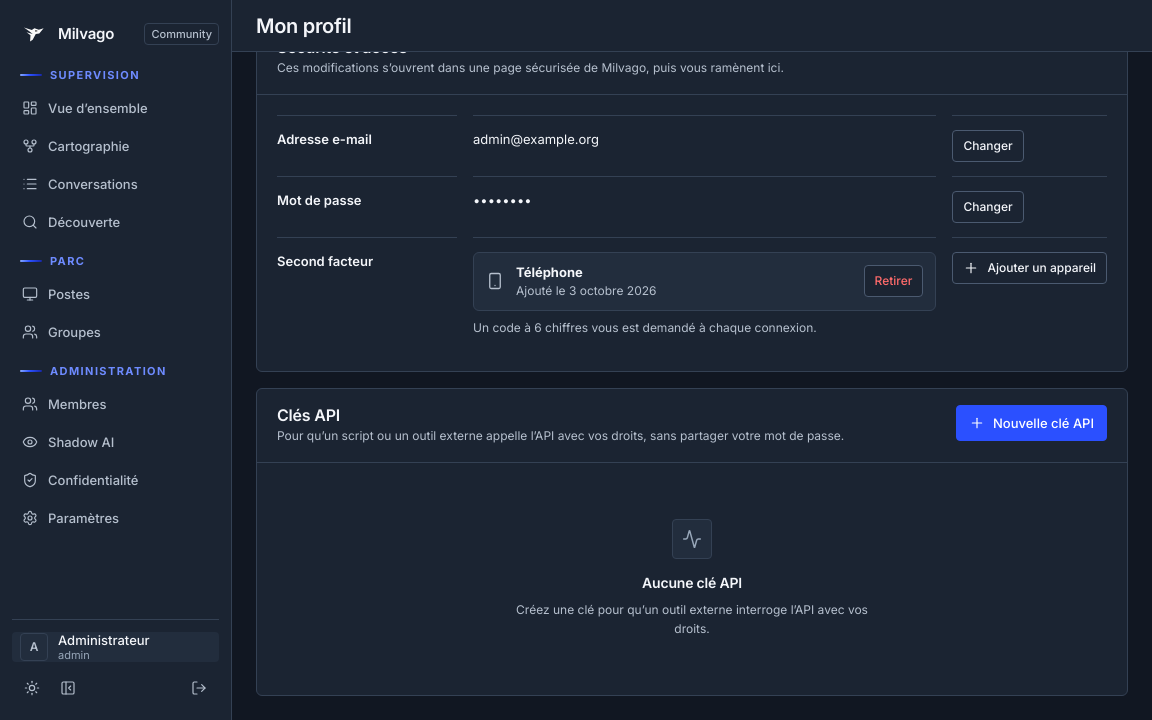
Test: Identity: API keys on the profile page › shows an empty state and offers only the caller own permissions
(page scrolled)
Expected: the heading "Aucune clé API" is shown, [642, 573, 742, 593]
What coordinates should you click on to do the following:
click the button "Nouvelle clé API"
I would click on:
 (1032, 423)
Its box is [956, 405, 1107, 441].
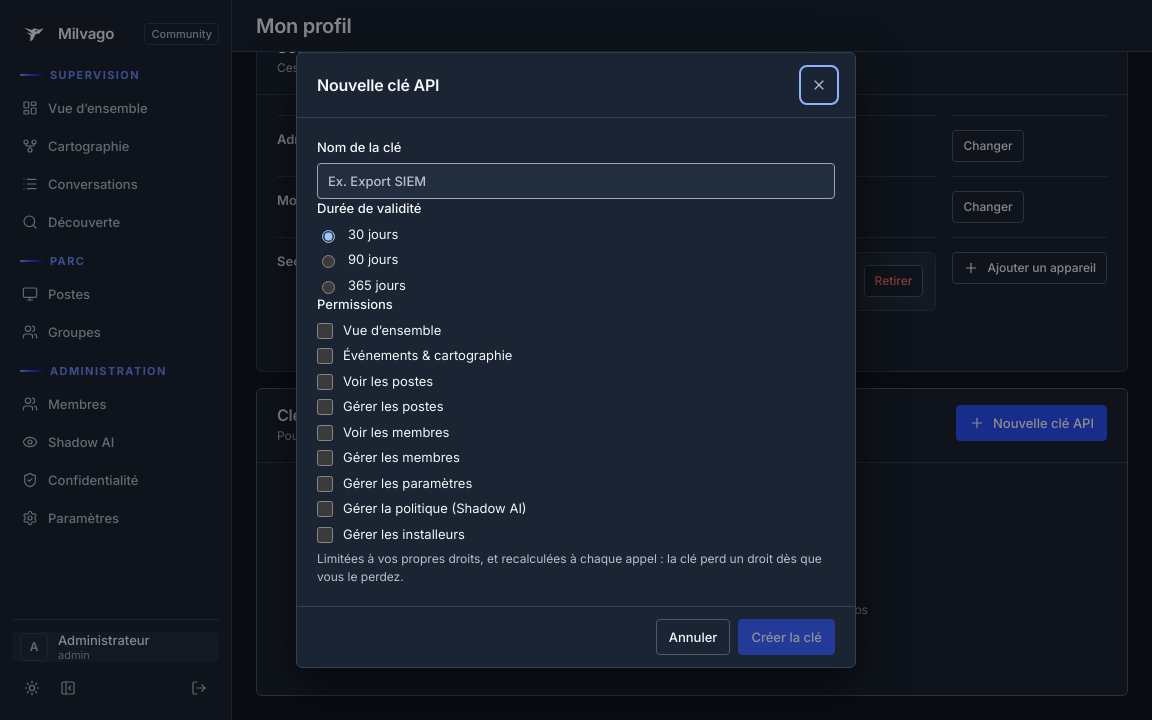
Expected: the button "Créer la clé" is disabled, [738, 619, 835, 655]
